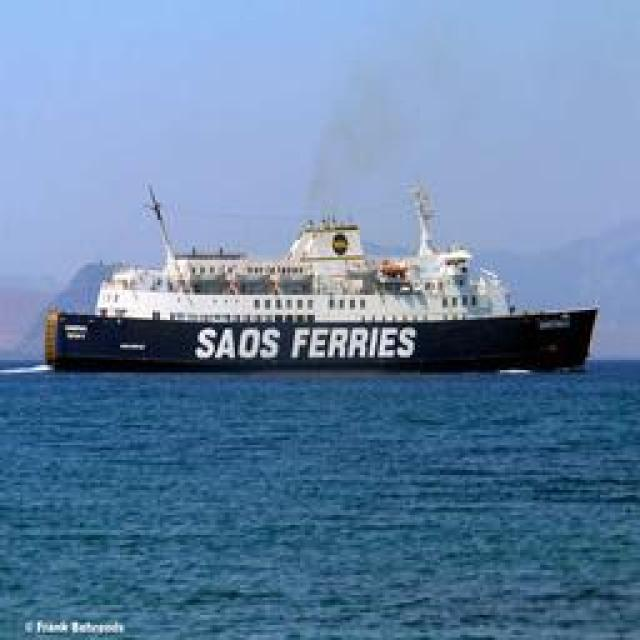ship: (40, 179, 595, 376)
